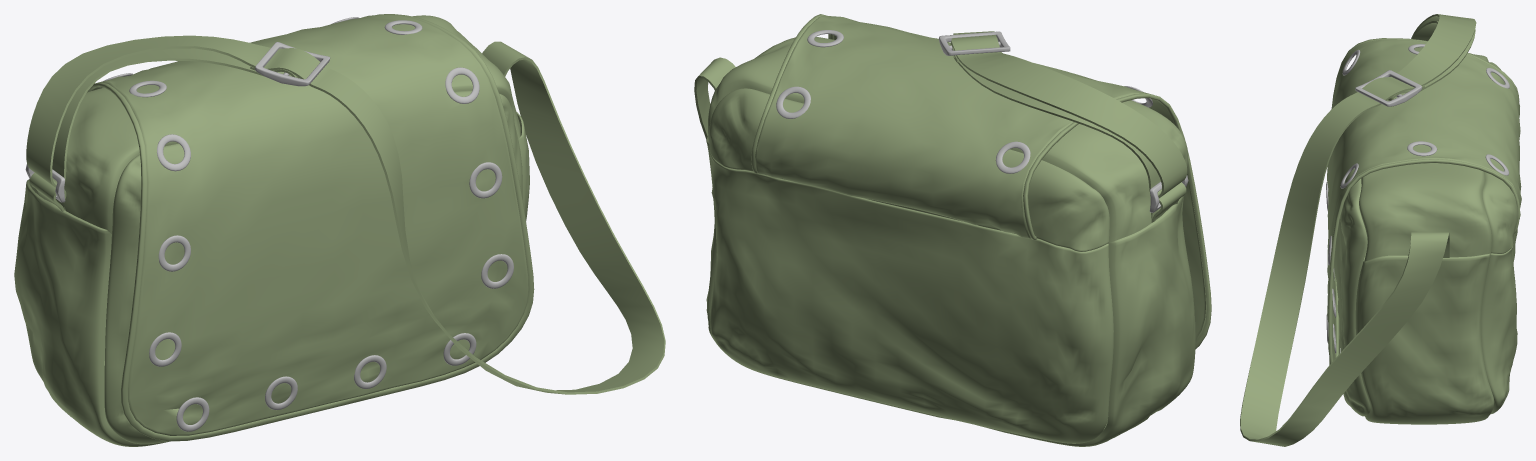
The model's file is shoulder bag.glb.
The picture shows the model from 3 angles, left to right: view 1: azimuth 30°, elevation 25°; view 2: azimuth 150°, elevation 25°; view 3: azimuth 270°, elevation 25°; orthographic projection. The views are drawn at different scales.
Visible parts, largest first — view 1: arch49_009_obj_00, arch49_009_obj_01; view 2: arch49_009_obj_00, arch49_009_obj_01; view 3: arch49_009_obj_00, arch49_009_obj_01.
Part boxes in pixels (x1,y1,x2,y2): arch49_009_obj_00: (14, 14, 665, 446); arch49_009_obj_01: (25, 17, 513, 431); arch49_009_obj_00: (694, 14, 1211, 446); arch49_009_obj_01: (776, 30, 1188, 212); arch49_009_obj_00: (1240, 14, 1521, 446); arch49_009_obj_01: (1326, 44, 1509, 353).
Size of the model in its own units: 0.3843 by 0.2482 by 0.2223.
2 materials, 1 textured.
